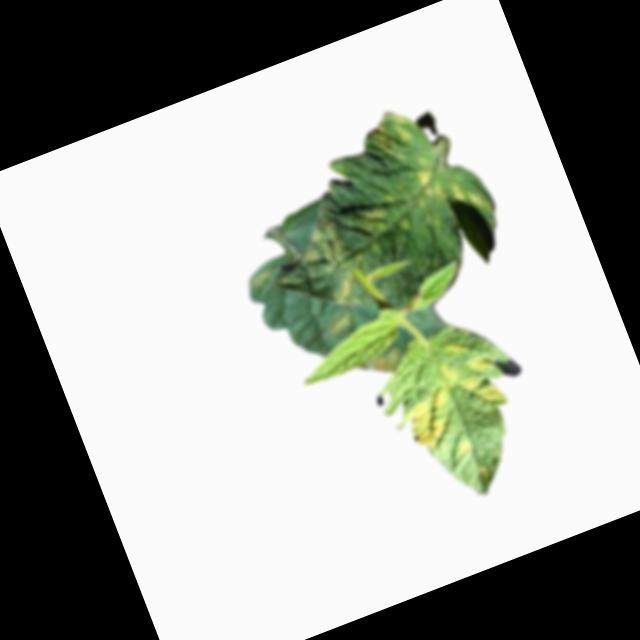Leaf_Mold: (438, 346, 512, 420), (399, 386, 462, 454), (363, 104, 423, 167), (288, 216, 351, 274), (356, 341, 411, 385), (412, 164, 451, 206), (355, 200, 394, 239), (324, 269, 362, 305), (321, 307, 361, 341), (243, 265, 275, 291), (453, 435, 477, 460), (442, 335, 466, 358), (449, 181, 470, 207)
